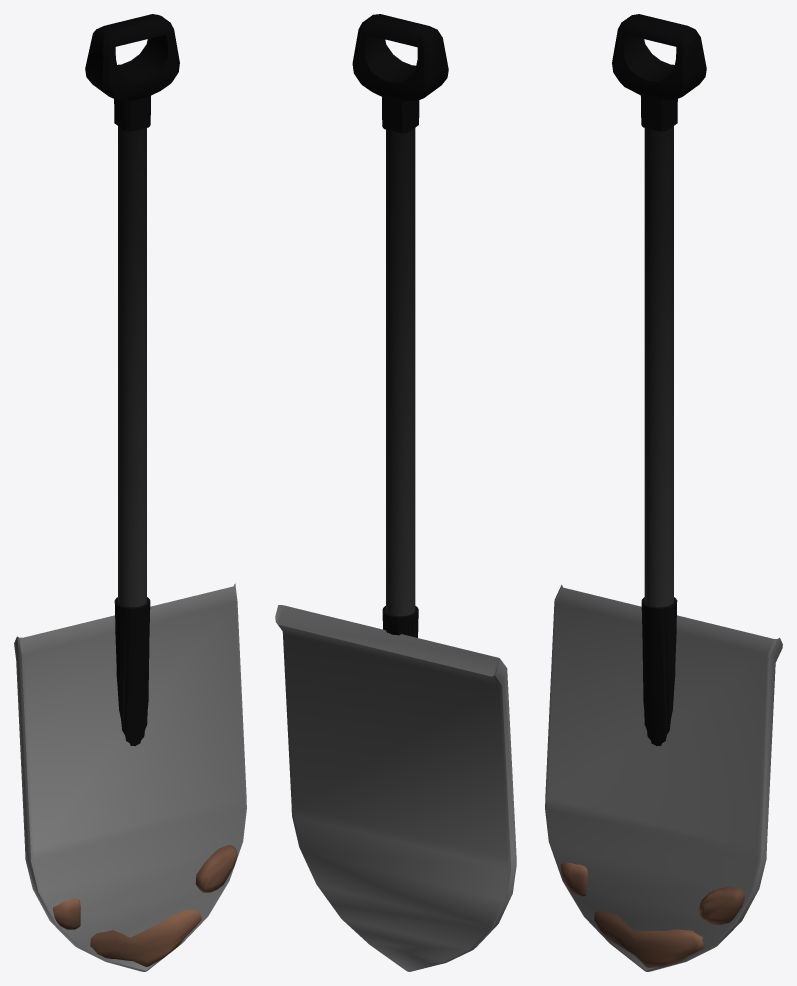
The model's file is Showel.fbx.
3 views of the same model, side by side, from view 1: azimuth 30°, elevation 25°; view 2: azimuth 150°, elevation 25°; view 3: azimuth 330°, elevation 25° (orthographic).
Parts seen in each view (by area): view 1: Cube.002, Cube.001; view 2: Cube.002; view 3: Cube.002, Cube.001.
Boxes of the visible parts, x1=… form: Cube.002: x1=14, y1=14, x2=246, y2=971; Cube.001: x1=53, y1=845, x2=237, y2=966; Cube.002: x1=275, y1=14, x2=516, y2=971; Cube.002: x1=545, y1=14, x2=782, y2=971; Cube.001: x1=560, y1=863, x2=744, y2=967.
Bounding box in the file's own units: 177 × 720 × 39.53.
